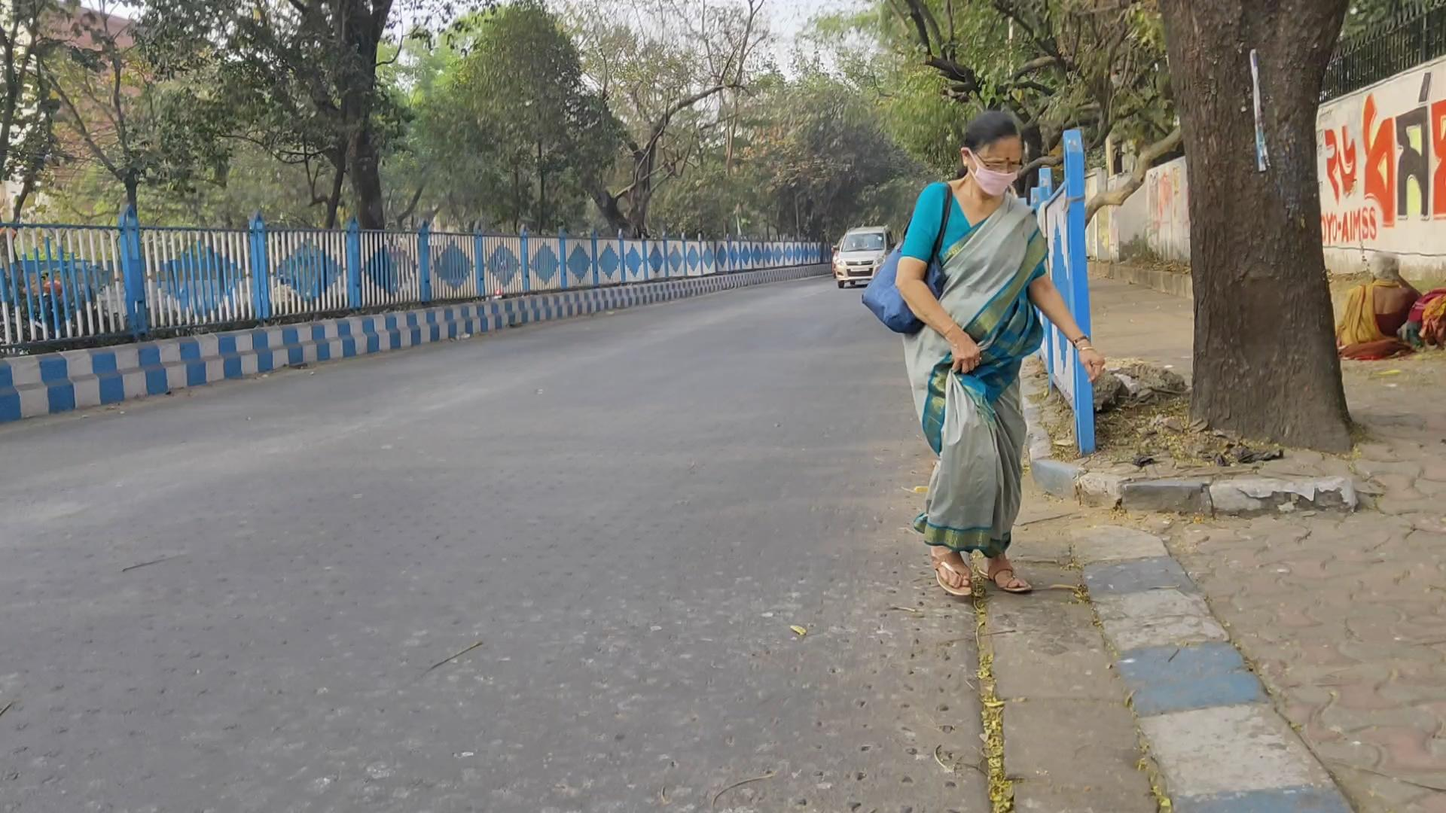car: (834, 225, 895, 289)
